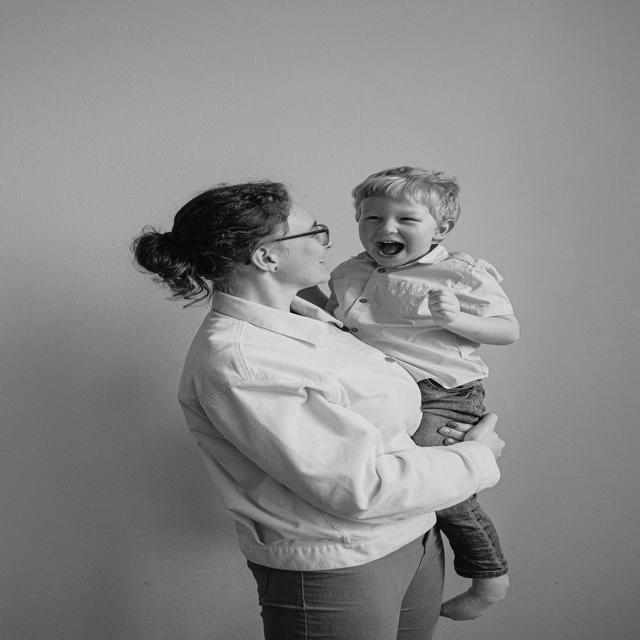Happiness: (355, 192, 435, 270)
